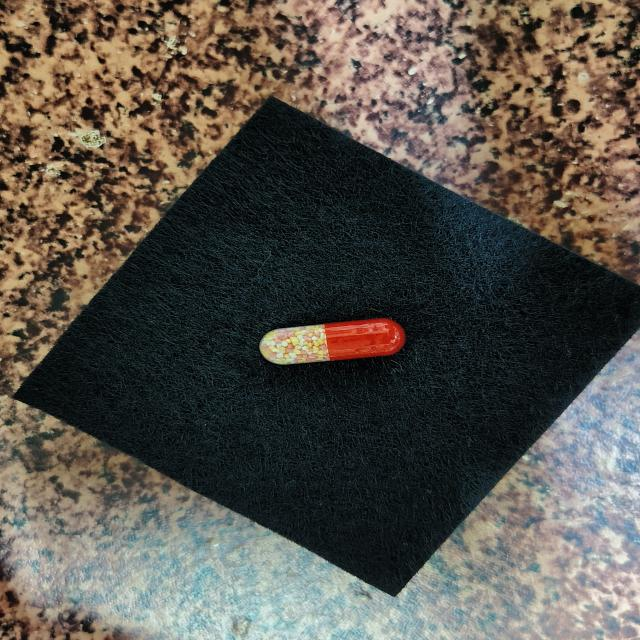Intact Capsule: (259, 318, 405, 364)
